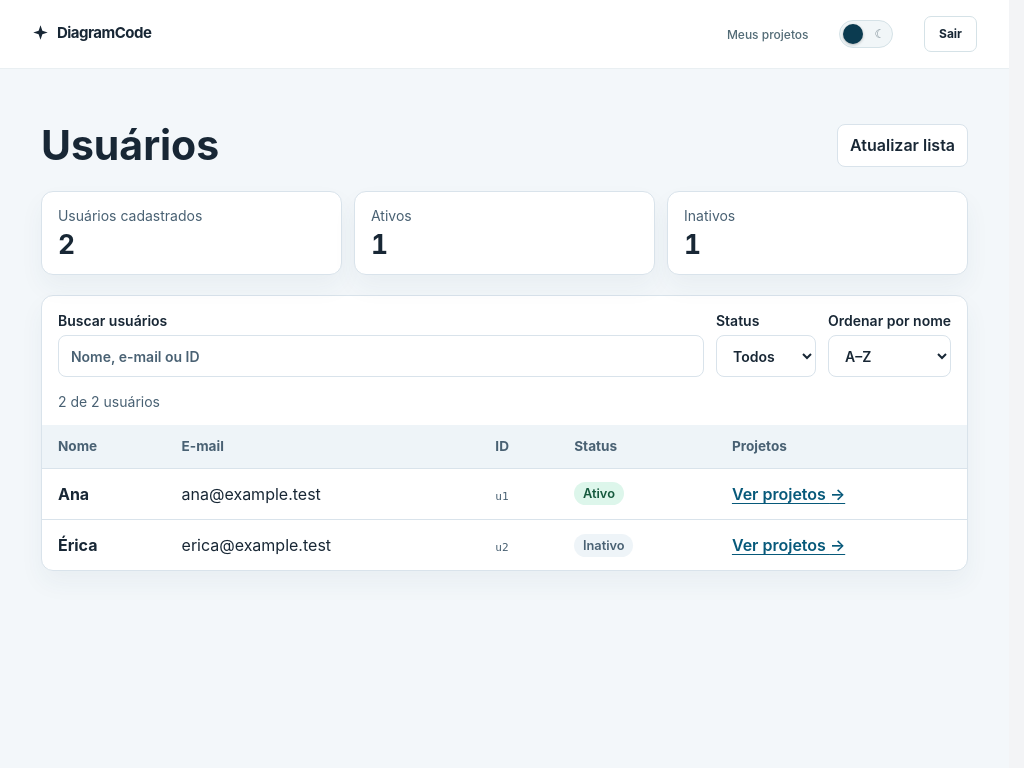
Test: permite ao administrador abrir os projetos de um usuário pela tabela
Expected: the table shows "ana@example.test", [182,484,321,504]
Click the link with id "usuarios". click: x=781, y=494
box: [732,484,845,504]
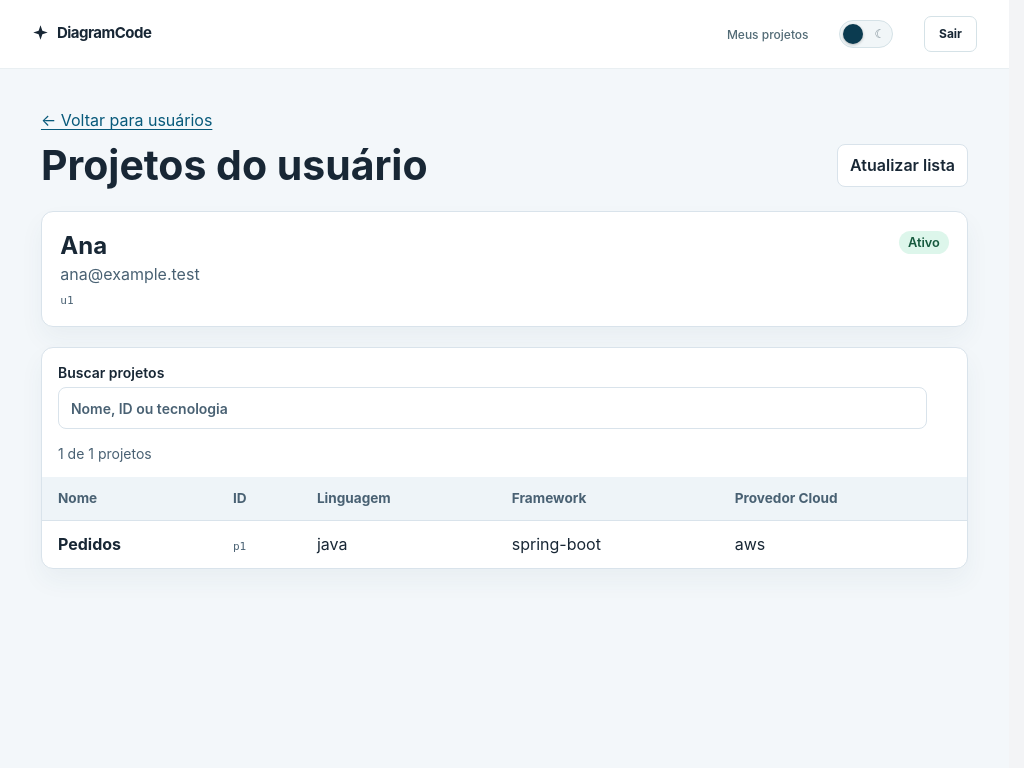
Expected: the heading "Projetos do usuário" is shown, [41,142,428,189]
Expected: the table shows "Pedidos", [58,534,121,554]
